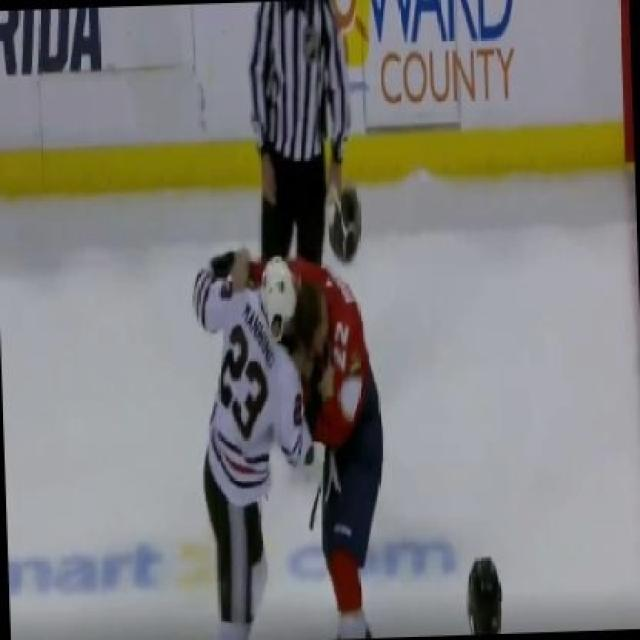fight: (188, 242, 389, 638)
non-fight: (244, 0, 363, 298)
